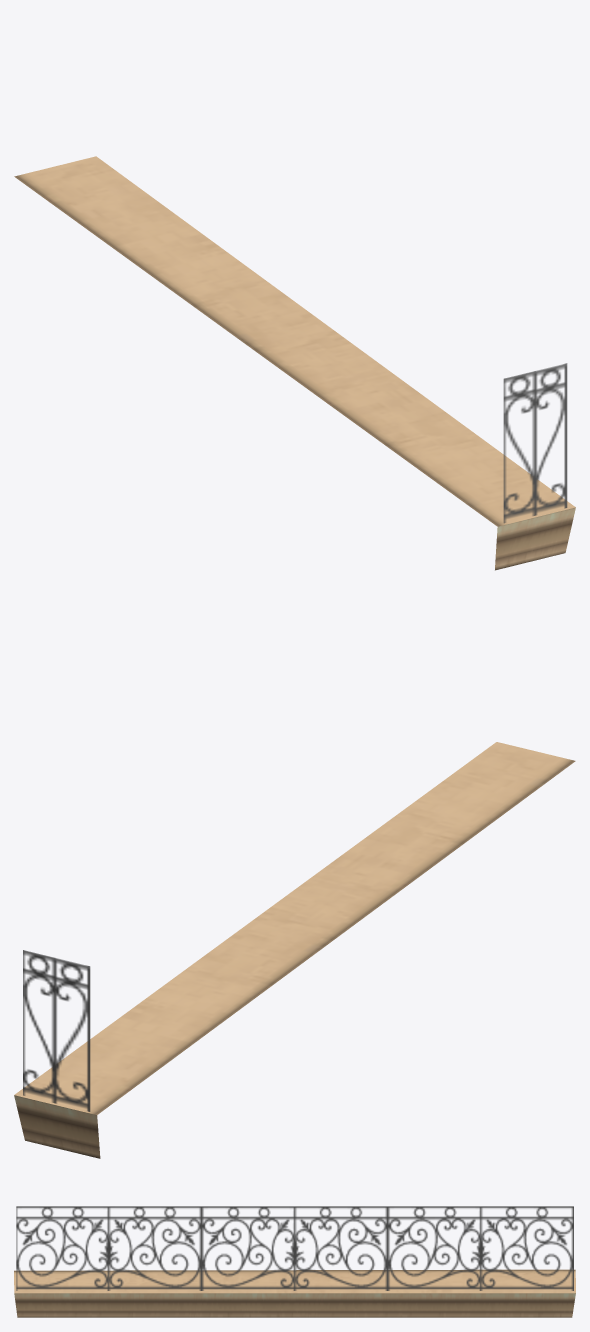
The picture shows the model from 3 angles, top to bottom: view 1: azimuth 30°, elevation 25°; view 2: azimuth 150°, elevation 25°; view 3: azimuth 270°, elevation 25°; orthographic projection. The views are drawn at different scales.
Visible parts, largest first — view 1: um_t1_ar306_model_t1_ar306_modelShape; view 2: um_t1_ar306_model_t1_ar306_modelShape; view 3: um_t1_ar306_model_t1_ar306_modelShape.
Part boxes in pixels (left/top/right/bottom): um_t1_ar306_model_t1_ar306_modelShape: left=14, top=156, right=575, bottom=570; um_t1_ar306_model_t1_ar306_modelShape: left=14, top=742, right=575, bottom=1158; um_t1_ar306_model_t1_ar306_modelShape: left=14, top=1206, right=575, bottom=1317.
Size of the model in its own units: 0.4853 by 1.07 by 4.89.
2 materials, 2 textured.
